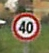limite 40: (10, 10, 41, 42)
